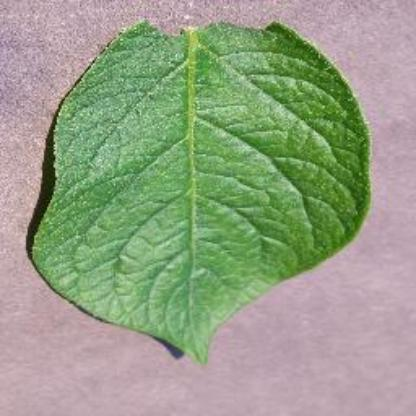Healthy-plant: (32, 13, 378, 367)
